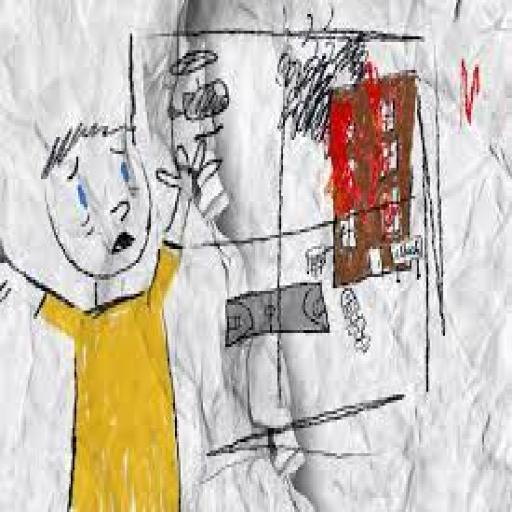person: (5, 118, 226, 512)
